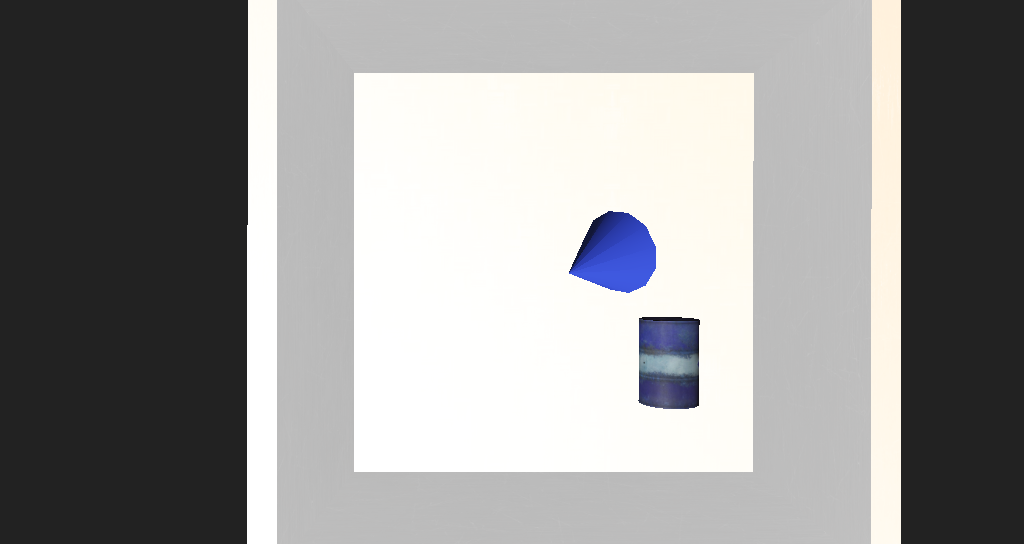cone: (569, 291, 616, 339)
cylinder: (488, 227, 589, 298)
sphere: (384, 91, 815, 396)
